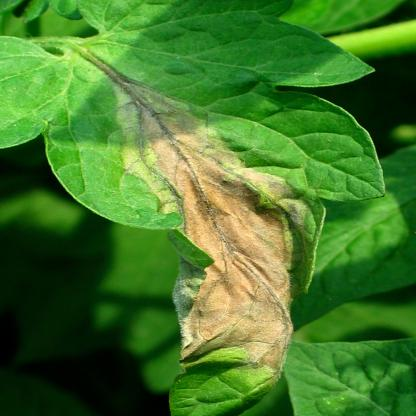Tomato leaf late blight: (6, 3, 393, 410)
